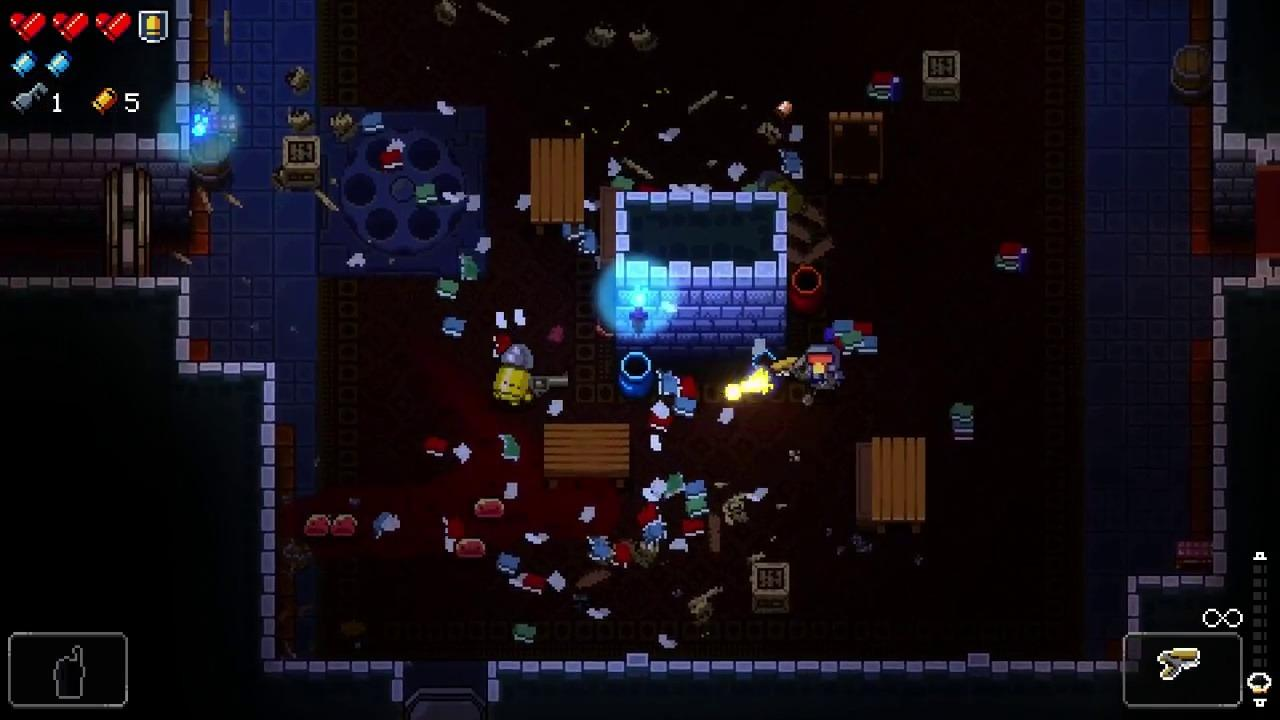blobulin_s: (453, 539, 489, 560), (304, 512, 333, 538), (332, 515, 360, 540), (474, 498, 507, 519)
bullet_kin: (492, 341, 535, 411)
locked_door: (105, 164, 150, 279)
player: (805, 343, 841, 396)
table: (542, 423, 629, 490), (872, 436, 927, 537), (529, 138, 585, 236), (829, 112, 884, 190)
teleporter: (314, 107, 487, 277)
wall: (616, 191, 788, 358)
